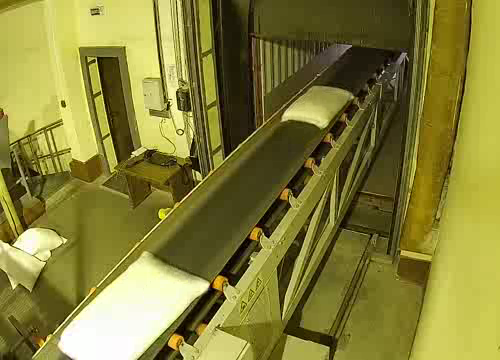bag: (54, 250, 218, 360), (277, 83, 358, 133)
